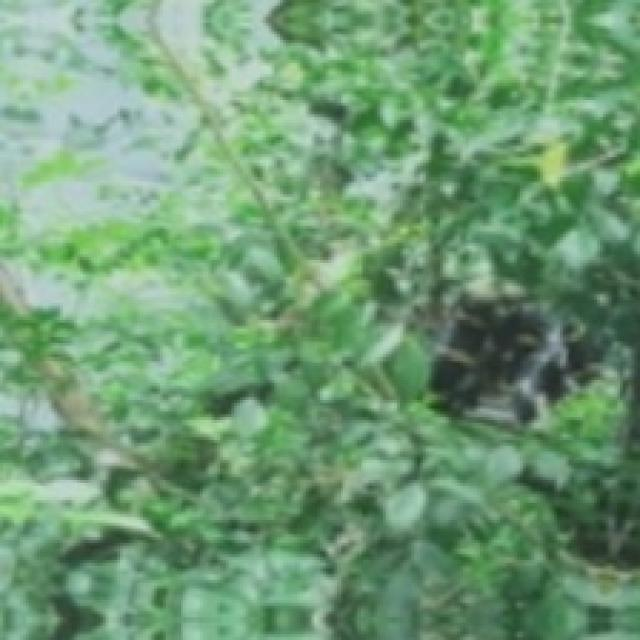mangrove cat snake: (429, 289, 569, 420)
